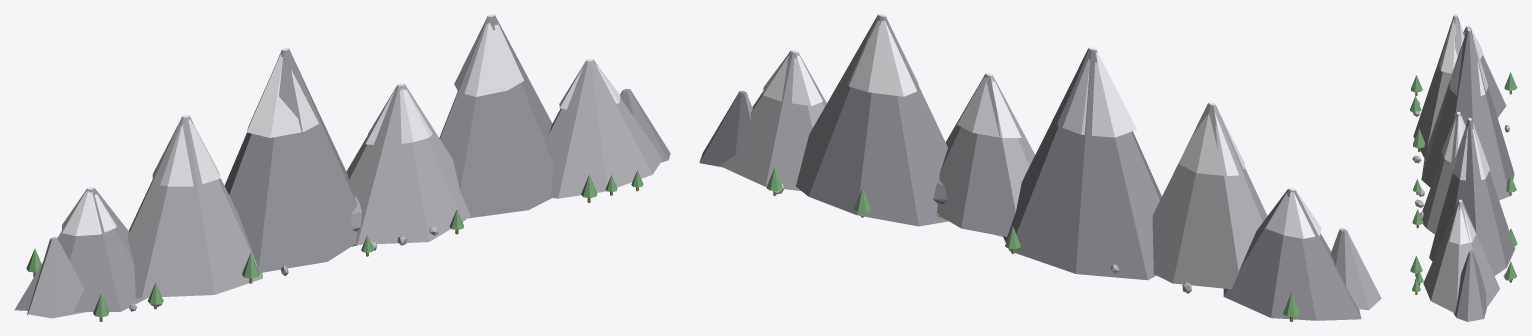
The model's file is decor_mountain.glb.
3 renders of one model, left to right at view 1: azimuth 30°, elevation 25°; view 2: azimuth 150°, elevation 25°; view 3: azimuth 270°, elevation 25°, orthographic. The views are drawn at different scales.
Visible parts, largest first — view 1: Peak.002, Peak.001, Peak.004, Peak.003, Peak.005, Peak, SnowCap.005, Peak.007, SnowCap.003, SnowCap.002, SnowCap.001, SnowCap.004 (+2 smaller); view 2: Peak.002, Peak.004, Peak.001, Peak, Peak.003, Peak.005, SnowCap.003, SnowCap.005, SnowCap.002, SnowCap.004, Peak.007, Peak.006 (+2 smaller); view 3: Peak.002, Peak.004, Peak.005, Peak.001, Peak.006, Peak.003, SnowCap.005, SnowCap.006, SnowCap.002, SnowCap.003, Peak, SnowCap.004 (+9 smaller).
Boxes of the visible parts, <box> form: Peak.002: <box>224,48,357,272</box>; Peak.001: <box>127,116,262,297</box>; Peak.004: <box>439,15,553,218</box>; Peak.003: <box>346,84,470,244</box>; Peak.005: <box>548,59,662,198</box>; Peak: <box>14,188,147,312</box>; SnowCap.005: <box>454,14,524,96</box>; Peak.007: <box>27,237,86,318</box>; SnowCap.003: <box>247,47,318,137</box>; SnowCap.002: <box>152,115,220,186</box>; SnowCap.001: <box>62,187,116,235</box>; SnowCap.004: <box>365,83,432,144</box>; Peak.002: <box>1003,48,1161,280</box>; Peak.004: <box>796,15,948,226</box>; Peak.001: <box>1152,103,1267,289</box>; Peak: <box>1223,189,1361,320</box>; Peak.003: <box>937,74,1034,236</box>; Peak.005: <box>719,51,826,190</box>; SnowCap.003: <box>1057,47,1136,137</box>; SnowCap.005: <box>848,14,918,96</box>; SnowCap.002: <box>1178,102,1245,176</box>; SnowCap.004: <box>957,73,1021,138</box>; Peak.007: <box>1330,228,1381,310</box>; Peak.006: <box>699,91,752,167</box>; Peak.002: <box>1421,29,1514,200</box>; Peak.004: <box>1429,119,1515,275</box>; Peak.005: <box>1423,201,1499,312</box>; Peak.001: <box>1413,16,1461,158</box>; Peak.006: <box>1453,250,1486,321</box>; Peak.003: <box>1422,113,1465,234</box>; SnowCap.005: <box>1452,118,1489,180</box>; SnowCap.006: <box>1448,199,1475,244</box>; SnowCap.002: <box>1439,14,1464,73</box>; SnowCap.003: <box>1449,28,1488,95</box>; Peak: <box>1463,27,1506,117</box>; SnowCap.004: <box>1441,112,1465,162</box>.
Bounding box in the file's own units: 60.31 × 17.8 × 11.3.
